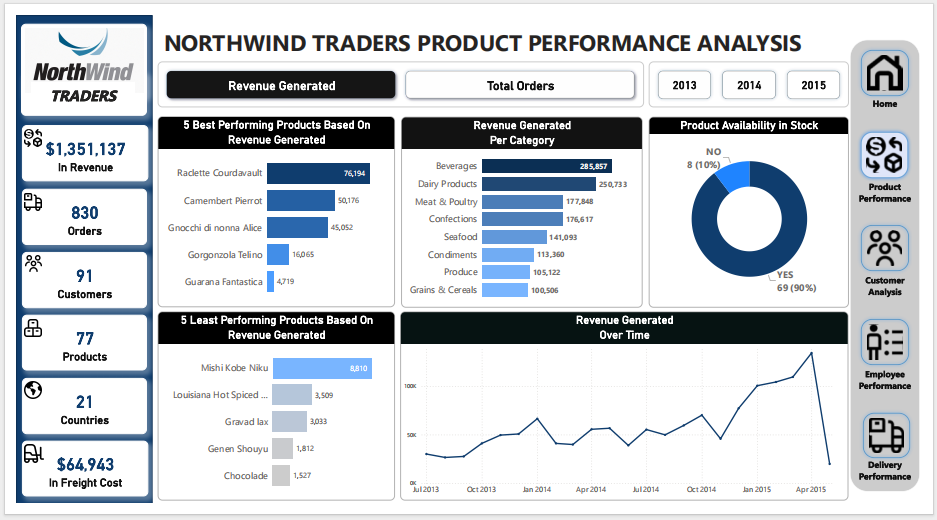

Layout of this report page (visuals, bound fields, positions):
{"tool":"powerbi","page":{"name":"Product Performance","canvas":[1950,1050],"ordinal":1},"visuals":[{"type":"actionButton","box":[20.8,40.7,115.9,114.9],"z":0,"group":"g15"},{"type":"actionButton","box":[20,627,115.9,114.9],"z":0,"group":"g14"},{"type":"actionButton","box":[24.3,830.8,115.3,114.7],"z":0,"group":"g13"},{"type":"group","id":"g1","title":"Group 5","box":[0,40.7,156.4,966.4],"z":1000},{"type":"actionButton","box":[19.1,219,115.4,114.7],"z":1000,"group":"g11"},{"type":"shape","box":[154.1,0,291.4,1050],"z":2000},{"type":"actionButton","box":[20,423.3,115.1,114.2],"z":2000,"group":"g12"},{"type":"clusteredBarChart","title":"5 Best Performing Products Based On","fields":{"Y":["Metric Selection.Selected Measure"],"Category":["products.productName"]},"box":[454.3,207.9,510,411.4],"z":3000},{"type":"shape","box":[169.9,124.3,259.3,81.4],"z":4000,"group":"g8"},{"type":"actionButton","box":[0,315.1,156.4,85],"z":4000,"group":"g11"},{"type":"lineChart","fields":{"Y":["Metric Selection.Selected Measure"],"Category":["Orders.orderDate.Variation.Date Hierarchy.Year","Orders.orderDate.Variation.Date Hierarchy.Month"]},"box":[981.5,639.9,963.9,405.3],"z":4000},{"type":"advancedSlicerVisual","fields":{"Values":["Metric Selection.Metric"]},"box":[463.1,98.7,1045.8,98.7],"z":5000},{"type":"actionButton","box":[0,519.3,156.8,86.1],"z":5000,"group":"g12"},{"type":"image","box":[170.6,31,259.3,141.1],"z":6000,"group":"g10"},{"type":"actionButton","box":[0,136.9,156.4,59.5],"z":6000,"group":"g15"},{"type":"donutChart","title":"Product Availability in Stock","fields":{"Y":["Count(products.productID)"],"Category":["products.Availability"]},"box":[1515,205.7,430.7,413.6],"z":6000},{"type":"card","title":"Total Revenue","fields":{"Values":["Sum(order_details.Revenue Generated)"]},"box":[170.2,246.6,259.3,98.6],"z":6000,"group":"g7"},{"type":"actionButton","box":[0,723,156.8,86.1],"z":6000,"group":"g14"},{"type":"actionButton","box":[0,921.3,156.8,86.1],"z":6000,"group":"g13"},{"type":"textbox","box":[471.5,18.9,1478.4,75.6],"z":7000},{"type":"card","title":"Number of Countries","fields":{"Values":["Count(customers.country)"]},"box":[169.9,785.7,260,100],"z":7000,"group":"g3"},{"type":"advancedSlicerVisual","fields":{"Values":["Orders.orderDate.Variation.Date Hierarchy.Year"]},"box":[1519.4,98.7,430.5,98.7],"z":8000},{"type":"textbox","box":[192.5,145.8,212,60.9],"z":8000,"group":"g10"},{"type":"card","title":"Number of Orders","fields":{"Values":["Count(order_details.orderID)"]},"box":[169.9,378.8,260,100],"z":9000,"group":"g6"},{"type":"clusteredBarChart","title":"5 Least Performing Products Based On","fields":{"Y":["Metric Selection.Selected Measure"],"Category":["products.productName"]},"box":[453.6,637.4,510.3,405.3],"z":9000},{"type":"clusteredBarChart","fields":{"Y":["Metric Selection.Selected Measure"],"Category":["categories.categoryName"]},"box":[982.1,208.2,518.6,409.3],"z":10000},{"type":"card","title":"Number of Customers","fields":{"Values":["CountNonNull(customers.customerID)"]},"box":[169.9,515.6,260,100],"z":11000,"group":"g5"},{"type":"group","id":"g2","title":"Group 6","box":[170.2,919.3,259.3,98.6],"z":11000},{"type":"group","id":"g3","title":"Group 7","box":[169.9,782.7,260,103],"z":12000},{"type":"group","id":"g4","title":"Group 8","box":[169.9,649.2,260,100],"z":13000},{"type":"image","box":[171.1,240.2,46.2,54.6],"z":14000,"group":"g7"},{"type":"group","id":"g5","title":"Group 9","box":[169.9,512.4,260,103.2],"z":14000},{"type":"group","id":"g6","title":"Group 10","box":[169.9,378.8,260,100],"z":15000},{"type":"image","box":[172.9,512.4,44.1,54.6],"z":15000,"group":"g5"},{"type":"group","id":"g7","title":"Group 11","box":[170.2,240.2,259.3,105],"z":16000},{"type":"image","box":[171.8,782.7,46.2,54.6],"z":16000,"group":"g3"},{"type":"group","id":"g8","title":"Group 14","box":[169.9,31,260,175.7],"z":17000},{"type":"card","title":"Number of Products","fields":{"Values":["CountNonNull(products.productID)"]},"box":[169.9,649.2,260,100],"z":17000,"group":"g4"},{"type":"image","box":[170.8,379.8,46.2,54.6],"z":18000,"group":"g6"},{"type":"card","title":"Total Freight Cost","fields":{"Values":["Sum(Orders.freight)"]},"box":[170.2,919.3,260,100],"z":19000,"group":"g2"},{"type":"image","box":[170.8,650.2,46.2,54.6],"z":20000,"group":"g4"},{"type":"group","id":"g9","title":"Group 13","box":[170.6,31,259.3,175.7],"z":21000,"group":"g8"},{"type":"group","id":"g10","title":"Group 12","box":[170.6,31,259.3,175.7],"z":22006,"group":"g9"},{"type":"image","box":[171.1,920.3,50.4,52.5],"z":24000,"group":"g2"},{"type":"group","id":"g11","title":"Group 1","box":[0,219,156.4,181],"z":26000,"group":"g1"},{"type":"group","id":"g12","title":"Group 2","box":[0,423.3,156.4,180.6],"z":27000,"group":"g1"},{"type":"group","id":"g13","title":"Group 4","box":[0,830.8,156.4,176.3],"z":28000,"group":"g1"},{"type":"group","id":"g14","title":"Group 3","box":[0,627,156.4,180.6],"z":29000,"group":"g1"},{"type":"group","id":"g15","title":"Group 4","box":[0,40.7,156.4,155.1],"z":30000,"group":"g1"}]}

Visuals, with their boxes in screenshot pixels (x1, y1, x2, y2), scaled from the page's 1950x1050 canvas onto the 937x520 screenshot:
actionButton: select_region(10, 20, 66, 77)
actionButton: select_region(10, 311, 65, 367)
actionButton: select_region(12, 411, 67, 468)
"Group 5" group: select_region(0, 20, 75, 499)
actionButton: select_region(9, 108, 65, 165)
shape: select_region(74, 0, 214, 519)
actionButton: select_region(10, 210, 65, 266)
"5 Best Performing Products Based On" clusteredBarChart: select_region(218, 103, 463, 307)
shape: select_region(82, 62, 206, 102)
actionButton: select_region(0, 156, 75, 198)
lineChart - Metric Selection.Selected Measure x Orders.orderDate.Variation.Date Hierarchy.Year: select_region(472, 317, 935, 518)
advancedSlicerVisual - Metric Selection.Metric: select_region(223, 49, 725, 98)
actionButton: select_region(0, 257, 75, 300)
image: select_region(82, 15, 207, 85)
actionButton: select_region(0, 68, 75, 97)
"Product Availability in Stock" donutChart: select_region(728, 102, 935, 307)
"Total Revenue" card: select_region(82, 122, 206, 171)
actionButton: select_region(0, 358, 75, 401)
actionButton: select_region(0, 456, 75, 499)
textbox: select_region(227, 9, 936, 47)
"Number of Countries" card: select_region(82, 389, 207, 439)
advancedSlicerVisual - Orders.orderDate.Variation.Date Hierarchy.Year: select_region(730, 49, 936, 98)
textbox: select_region(92, 72, 194, 102)
"Number of Orders" card: select_region(82, 188, 207, 237)
"5 Least Performing Products Based On" clusteredBarChart: select_region(218, 316, 463, 516)
clusteredBarChart - Metric Selection.Selected Measure x categories.categoryName: select_region(472, 103, 721, 306)
"Number of Customers" card: select_region(82, 255, 207, 305)
"Group 6" group: select_region(82, 455, 206, 504)
"Group 7" group: select_region(82, 388, 207, 439)
"Group 8" group: select_region(82, 322, 207, 371)
image: select_region(82, 119, 104, 146)
"Group 9" group: select_region(82, 254, 207, 305)
"Group 10" group: select_region(82, 188, 207, 237)
image: select_region(83, 254, 104, 281)
"Group 11" group: select_region(82, 119, 206, 171)
image: select_region(83, 388, 105, 415)
"Group 14" group: select_region(82, 15, 207, 102)
"Number of Products" card: select_region(82, 322, 207, 371)
image: select_region(82, 188, 104, 215)
"Total Freight Cost" card: select_region(82, 455, 207, 505)
image: select_region(82, 322, 104, 349)
"Group 13" group: select_region(82, 15, 207, 102)
"Group 12" group: select_region(82, 15, 207, 102)
image: select_region(82, 456, 106, 482)
"Group 1" group: select_region(0, 108, 75, 198)
"Group 2" group: select_region(0, 210, 75, 299)
"Group 4" group: select_region(0, 411, 75, 499)
"Group 3" group: select_region(0, 311, 75, 400)
"Group 4" group: select_region(0, 20, 75, 97)
